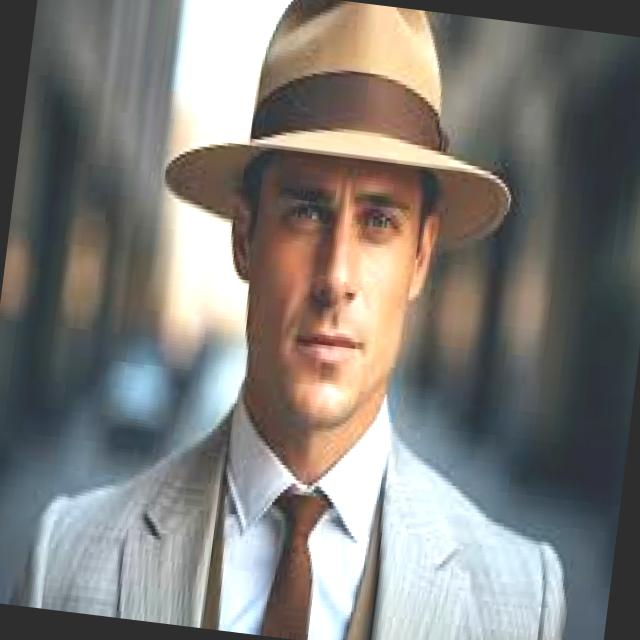hat: (166, 0, 511, 252)
